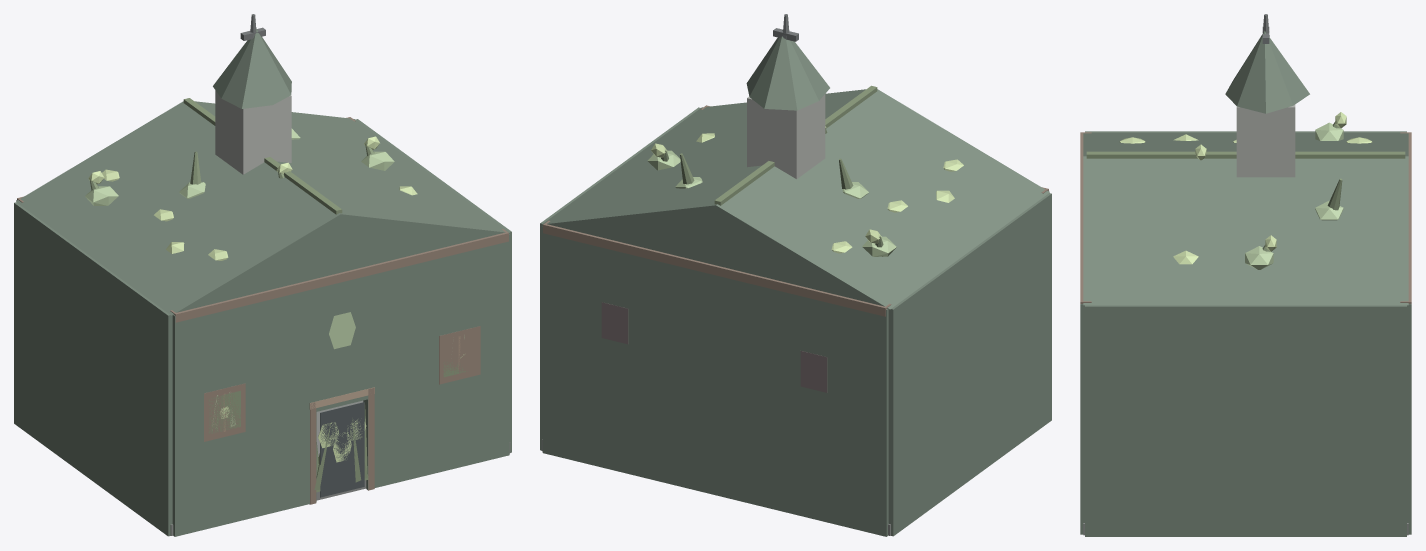
File: morning_chapel_infested.glb
The picture shows the model from 3 angles, left to right: view 1: azimuth 30°, elevation 25°; view 2: azimuth 150°, elevation 25°; view 3: azimuth 270°, elevation 25°; orthographic projection. The views are drawn at different scales.
Parts seen in each view (by area): view 1: morning_chapel_mat_01, morning_chapel_mat_02, morning_chapel_mat_10, morning_chapel_mat_04, morning_chapel_mat_06, morning_chapel_mat_05, morning_chapel_mat_08; view 2: morning_chapel_mat_01, morning_chapel_mat_10, morning_chapel_mat_02, morning_chapel_mat_09, morning_chapel_mat_06, morning_chapel_mat_05, morning_chapel_mat_08; view 3: morning_chapel_mat_01, morning_chapel_mat_10, morning_chapel_mat_06, morning_chapel_mat_02, morning_chapel_mat_08, morning_chapel_mat_05.
Boxes of the visible parts, box(x1,y1,x2,y2) form: morning_chapel_mat_01: box(14, 28, 511, 536); morning_chapel_mat_02: box(17, 117, 508, 504); morning_chapel_mat_10: box(215, 90, 291, 174); morning_chapel_mat_04: box(320, 402, 364, 497); morning_chapel_mat_06: box(89, 98, 467, 492); morning_chapel_mat_05: box(88, 136, 464, 462); morning_chapel_mat_08: box(85, 128, 464, 427); morning_chapel_mat_01: box(540, 30, 1051, 536); morning_chapel_mat_10: box(747, 94, 825, 179); morning_chapel_mat_02: box(543, 105, 1048, 316); morning_chapel_mat_09: box(601, 302, 827, 392); morning_chapel_mat_06: box(661, 85, 883, 256); morning_chapel_mat_05: box(651, 126, 963, 253); morning_chapel_mat_08: box(647, 150, 896, 256); morning_chapel_mat_01: box(1080, 31, 1411, 536); morning_chapel_mat_10: box(1236, 104, 1295, 177); morning_chapel_mat_06: box(1086, 121, 1405, 251); morning_chapel_mat_02: box(1080, 132, 1411, 303); morning_chapel_mat_08: box(1245, 122, 1343, 269); morning_chapel_mat_05: box(1119, 112, 1372, 264).
Bounding box in the file's own units: 4.97 × 5.76 × 3.98.
